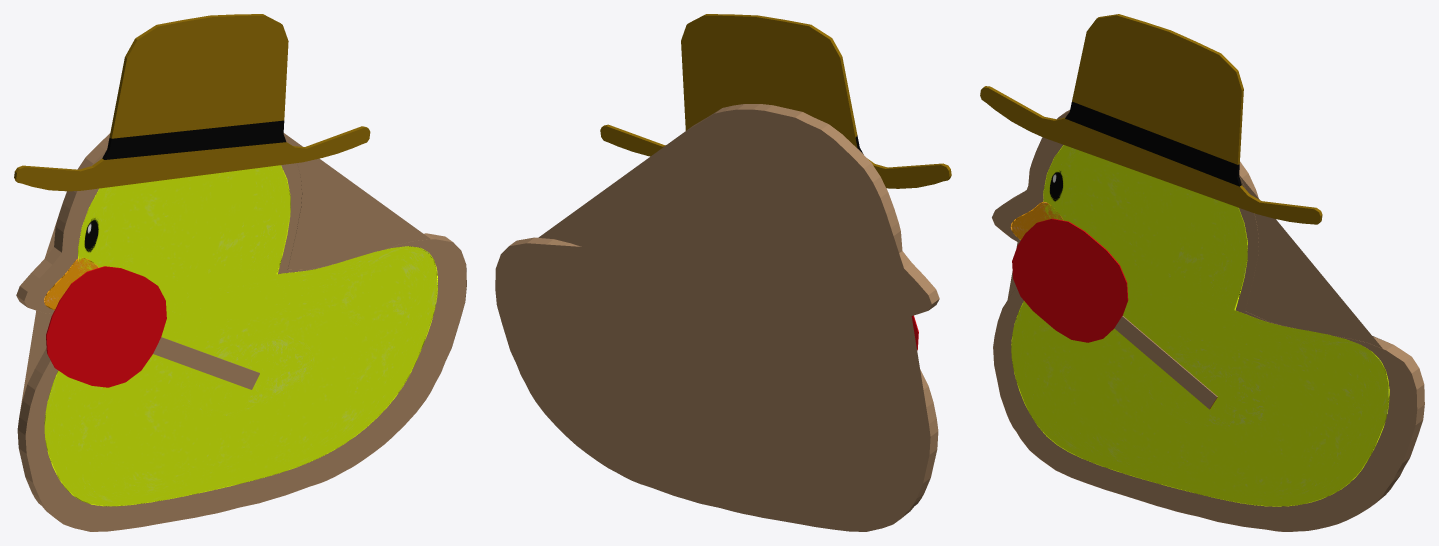
Rendered from crio.fbx.
The picture shows the model from 3 angles, left to right: view 1: azimuth 30°, elevation 25°; view 2: azimuth 150°, elevation 25°; view 3: azimuth 330°, elevation 25°; orthographic projection. The views are drawn at different scales.
Parts seen in each view (by area): view 1: Carton, Cube, Piruleta; view 2: Carton, Cube; view 3: Carton, Cube, Piruleta.
Part boxes in pixels (x1,y1,x2,y2): Carton: (16,133,466,531); Cube: (14,14,370,191); Piruleta: (46,266,259,389); Carton: (495,104,939,531); Cube: (600,14,951,188); Carton: (992,110,1424,531); Cube: (980,14,1322,224); Piruleta: (1012,218,1217,409).
Size of the model in its own units: 147 by 156 by 5.64.
